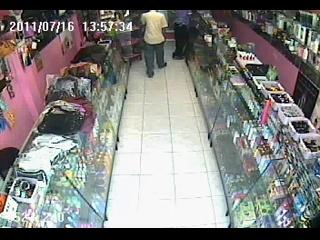Normal: (140, 11, 168, 78), (172, 10, 192, 60)
